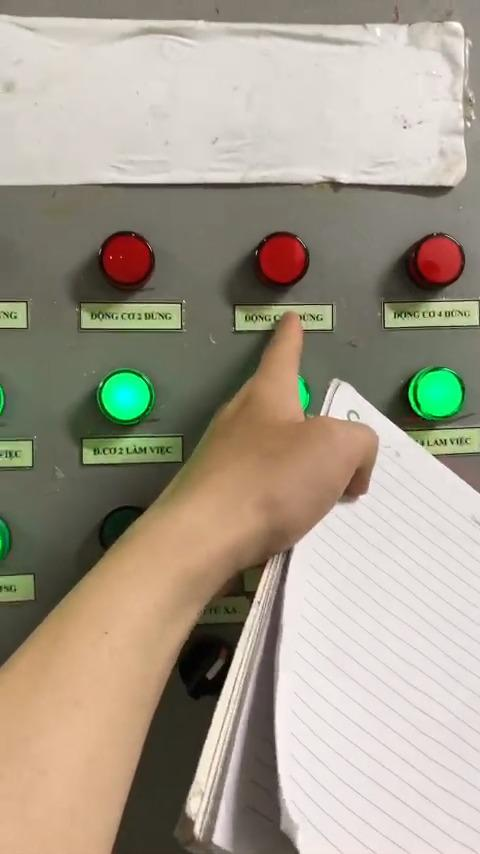led: (94, 221, 162, 290), (90, 362, 155, 425), (404, 365, 468, 424), (249, 231, 310, 290), (408, 234, 464, 289)
twist: (180, 639, 236, 700)
